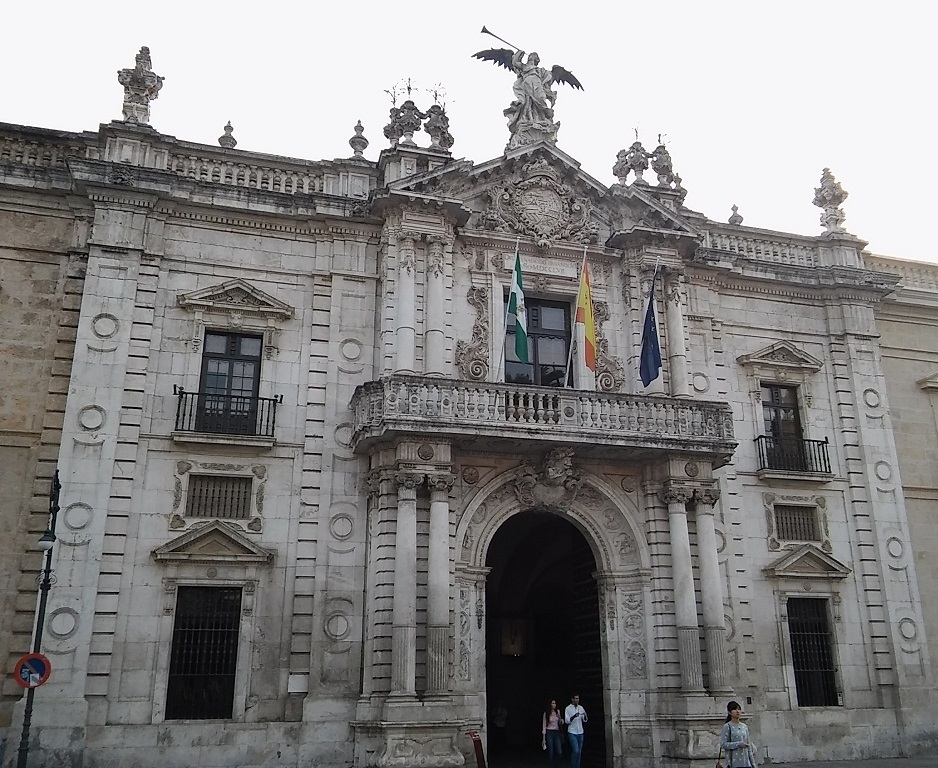arco-medio-punto: (477, 501, 618, 598)
fronton: (147, 520, 276, 571), (171, 273, 301, 322), (760, 540, 855, 583), (734, 334, 829, 377)
fronton-partido: (374, 138, 704, 242)
vano-adintelado: (147, 572, 262, 724), (483, 270, 587, 420), (179, 321, 287, 444), (770, 586, 857, 711), (747, 371, 820, 476)
